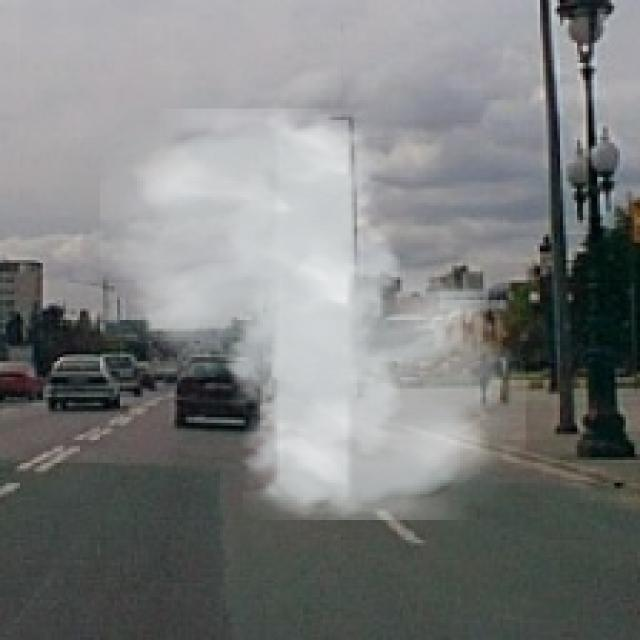Smoke: (100, 108, 526, 520)
